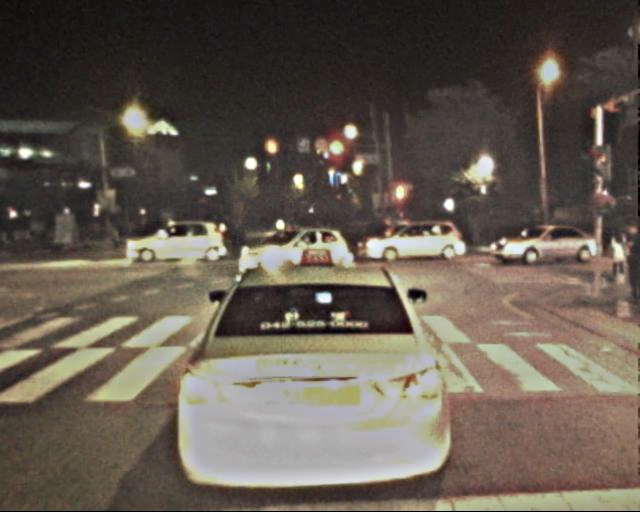person: (615, 220, 640, 297), (603, 230, 626, 286), (282, 215, 333, 233), (220, 217, 244, 248), (112, 219, 125, 251)
